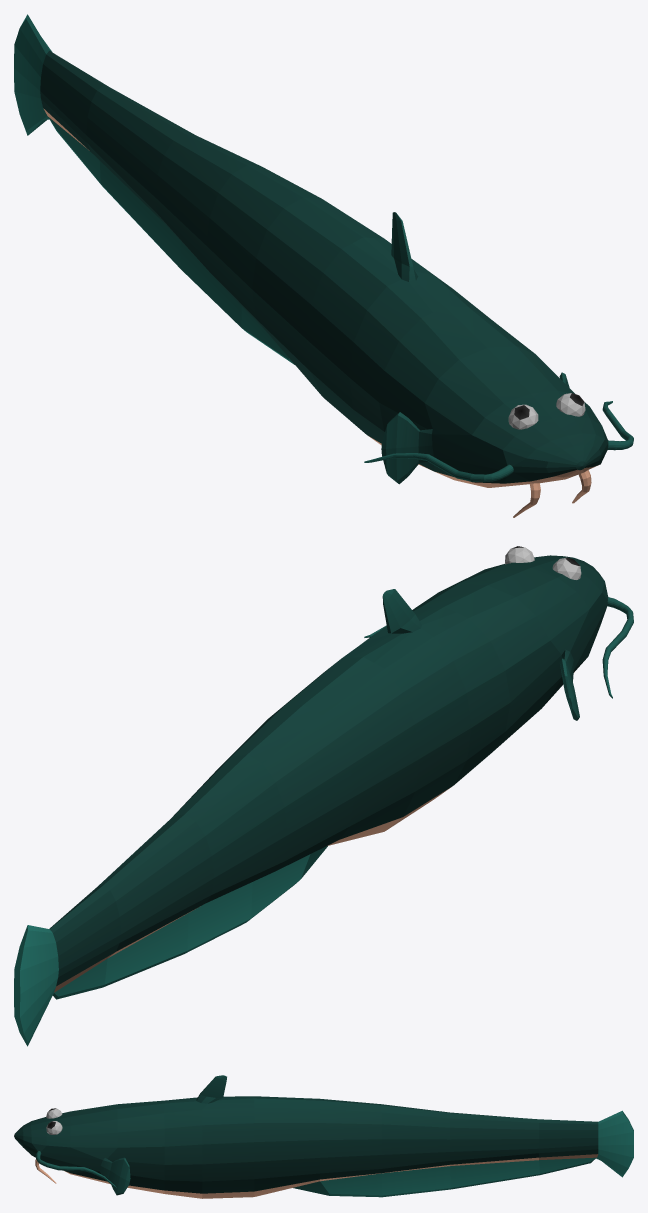
Rendered from silurus.glb.
3 views of the same model, one above another, from view 1: azimuth 30°, elevation 25°; view 2: azimuth 150°, elevation 25°; view 3: azimuth 270°, elevation 25° (orthographic). The views are drawn at different scales.
Visible parts, largest first — view 1: Cylinder.023; view 2: Cylinder.023; view 3: Cylinder.023.
Boxes of the visible parts, x1,y1,x2,y2 form: Cylinder.023: (14, 14, 633, 517); Cylinder.023: (14, 546, 633, 1046); Cylinder.023: (14, 1075, 633, 1198).
Size of the model in its own units: 2.66 by 2.29 by 10.45.
1 material, 1 textured.
